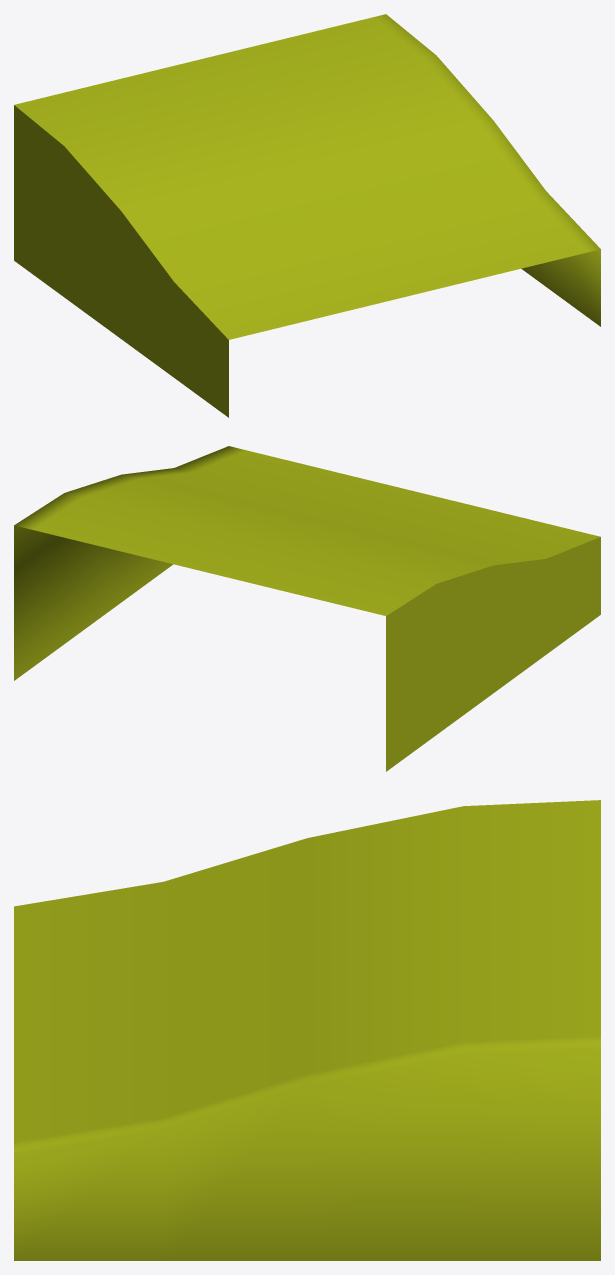
File: NB_Straight_UpH_Begin_End.fbx
The picture shows the model from 3 angles, top to bottom: view 1: azimuth 30°, elevation 25°; view 2: azimuth 150°, elevation 25°; view 3: azimuth 270°, elevation 25°; orthographic projection. The views are drawn at different scales.
Parts seen in each view (by area): view 1: Cube.000; view 2: Cube.000; view 3: Cube.000.
Part boxes in pixels (bbox=[...]): Cube.000: bbox=[14, 14, 600, 417]; Cube.000: bbox=[14, 446, 600, 771]; Cube.000: bbox=[14, 800, 600, 1260].
Size of the model in its own units: 200 by 80 by 200.
